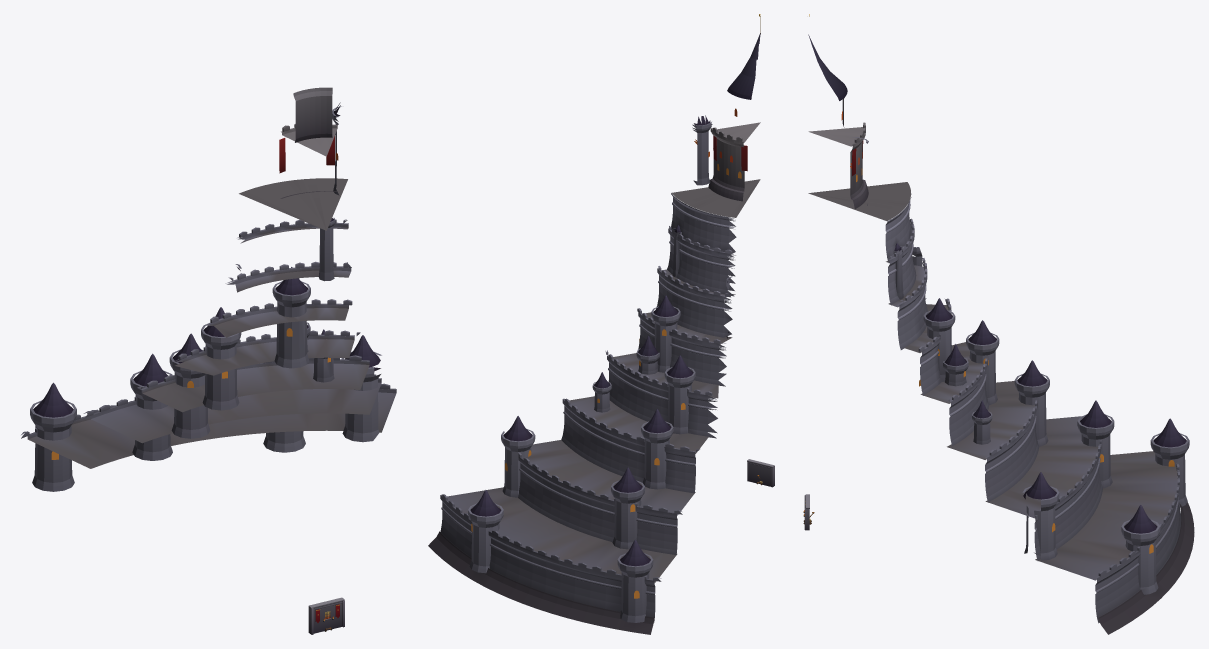
The model's file is fortress-s2-DE9JsITx.glb.
The picture shows the model from 3 angles, left to right: view 1: azimuth 30°, elevation 25°; view 2: azimuth 150°, elevation 25°; view 3: azimuth 270°, elevation 25°; orthographic projection. The views are drawn at different scales.
Visible parts, largest first — view 1: sc_landmark_1, sc_keep_gate; view 2: sc_landmark_1, sc_keep_gate; view 3: sc_landmark_1.
Part boxes in pixels (x1,y1,x2,y2): sc_landmark_1: (21,87,396,491); sc_keep_gate: (308,597,344,634); sc_landmark_1: (428,14,760,634); sc_keep_gate: (747,459,774,487); sc_landmark_1: (808,14,1194,634).
Bounding box in the file's own units: 275 × 479 × 327.
